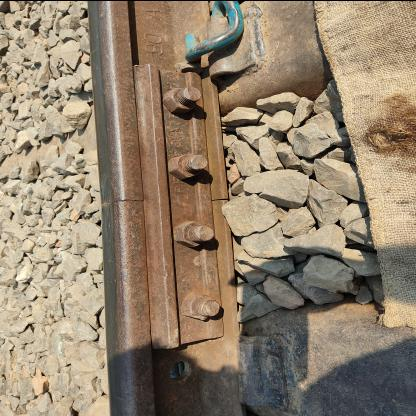Defective 1: (228, 315, 304, 410)
Non Defective 1: (157, 1, 276, 78)
Non Defective 3: (128, 60, 229, 360)
